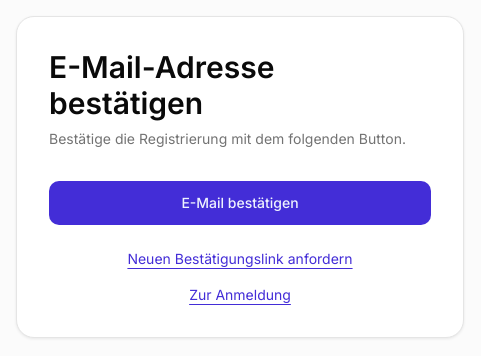
Test: verbraucht den Link erst nach Buttonklick und entfernt den Token aus der Adresszeile
Click the button "E-Mail bestätigen". click: [240, 203]
box: [49,181,431,225]
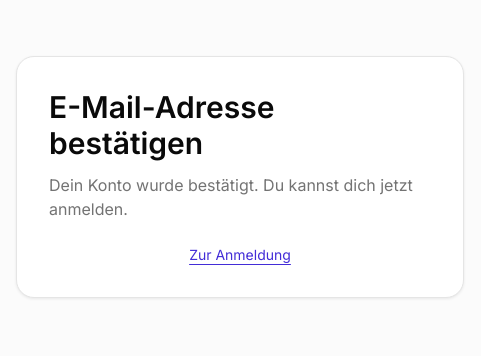
expect the message shows "Du kannst dich jetzt anmelden": met, box [49,175,413,219]
